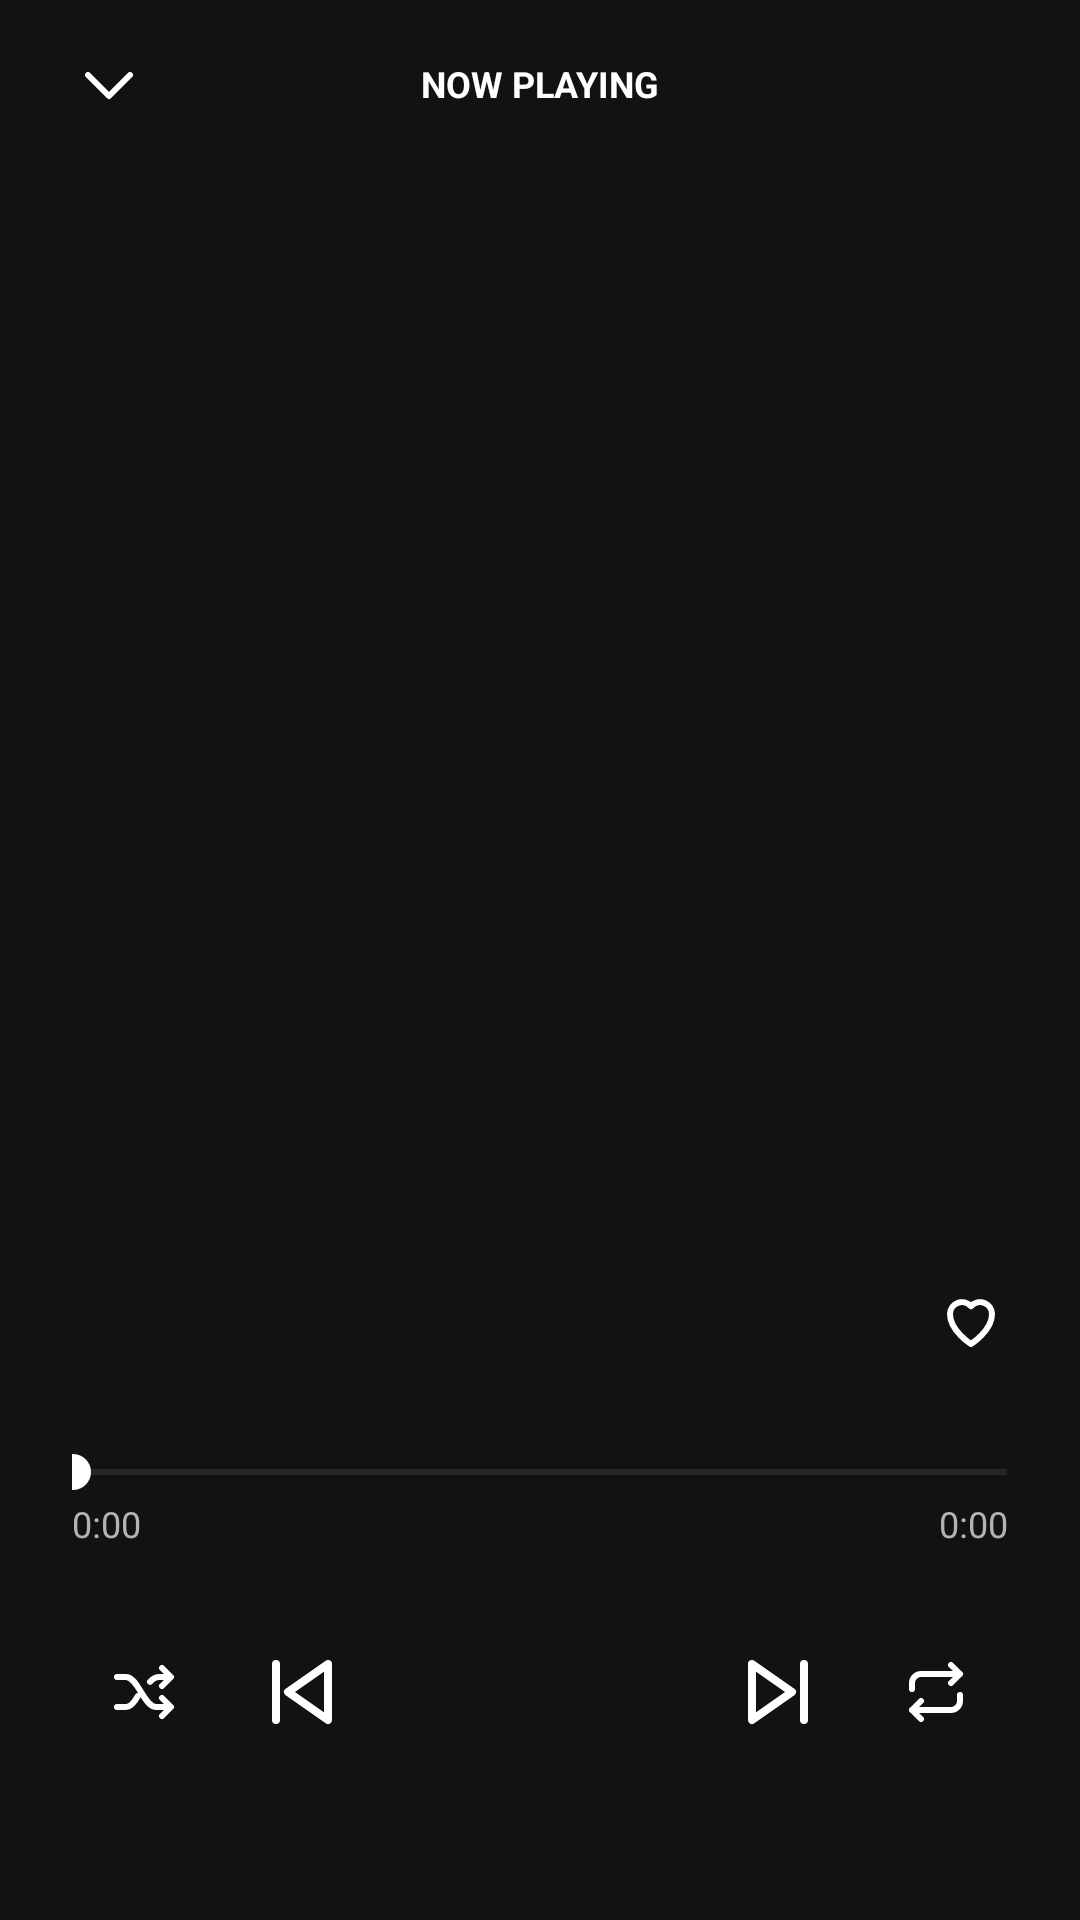

Icon click points for this 1080 x 1920 phone screenshot, format (x=x, y=y):
Close: (x=109, y=85)
Next: (x=778, y=1692)
Previous: (x=302, y=1692)
Repeat: (x=936, y=1692)
Shuffle: (x=144, y=1692)
